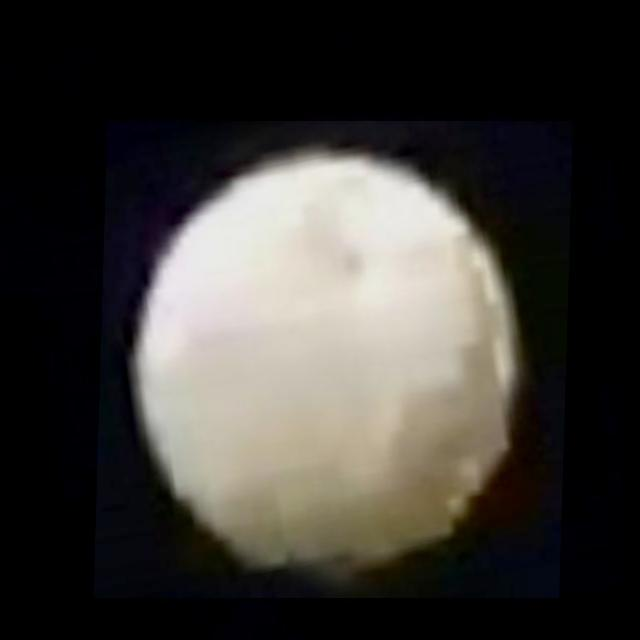-: (97, 121, 574, 598)
